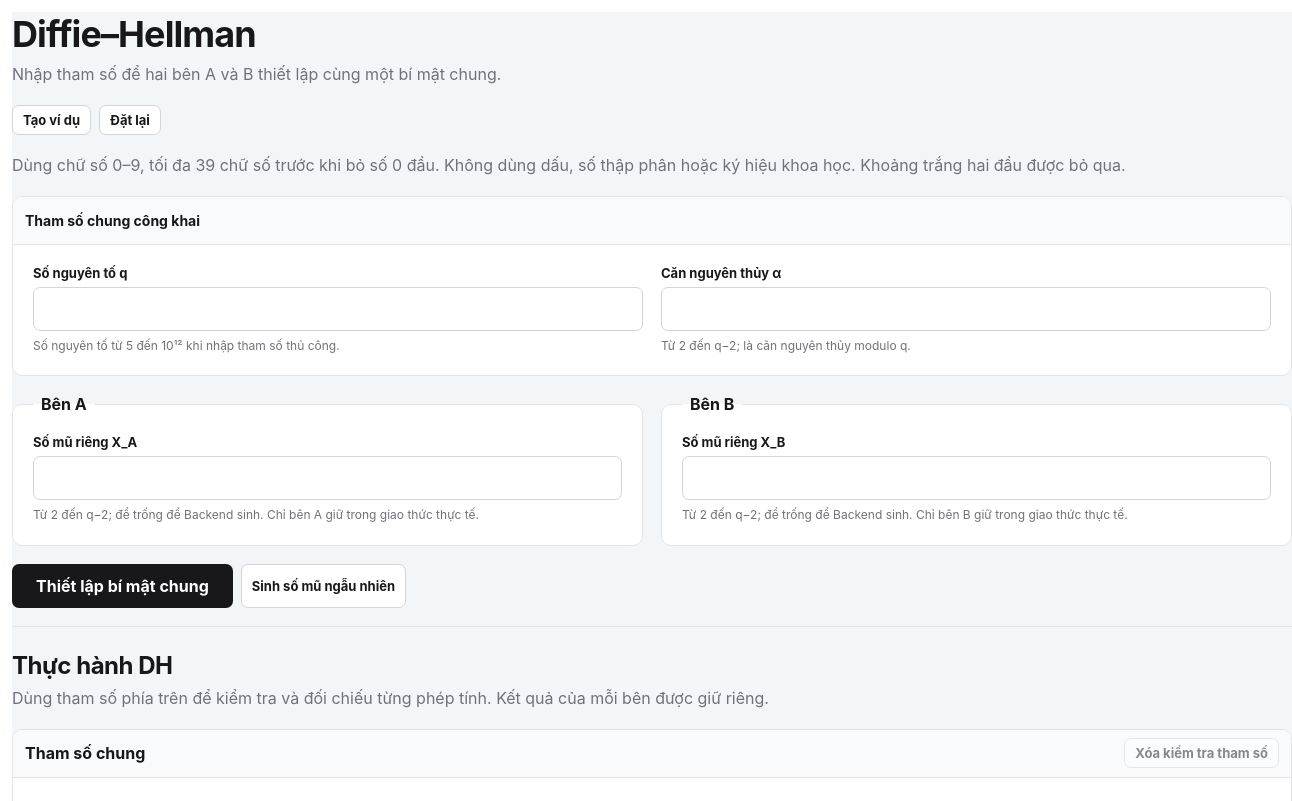
Diffie–Hellman form › starts with four empty labeled fields and loads examples only on click
Expected: the field labelled "Số nguyên tố q" is empty, x1=33 y1=287 x2=643 y2=331
Expected: the field labelled "Căn nguyên thủy α" is empty, x1=661 y1=287 x2=1271 y2=331
Step 1. Click the button "Tạo ví dụ" → (52, 120), box x1=12 y1=105 x2=91 y2=135
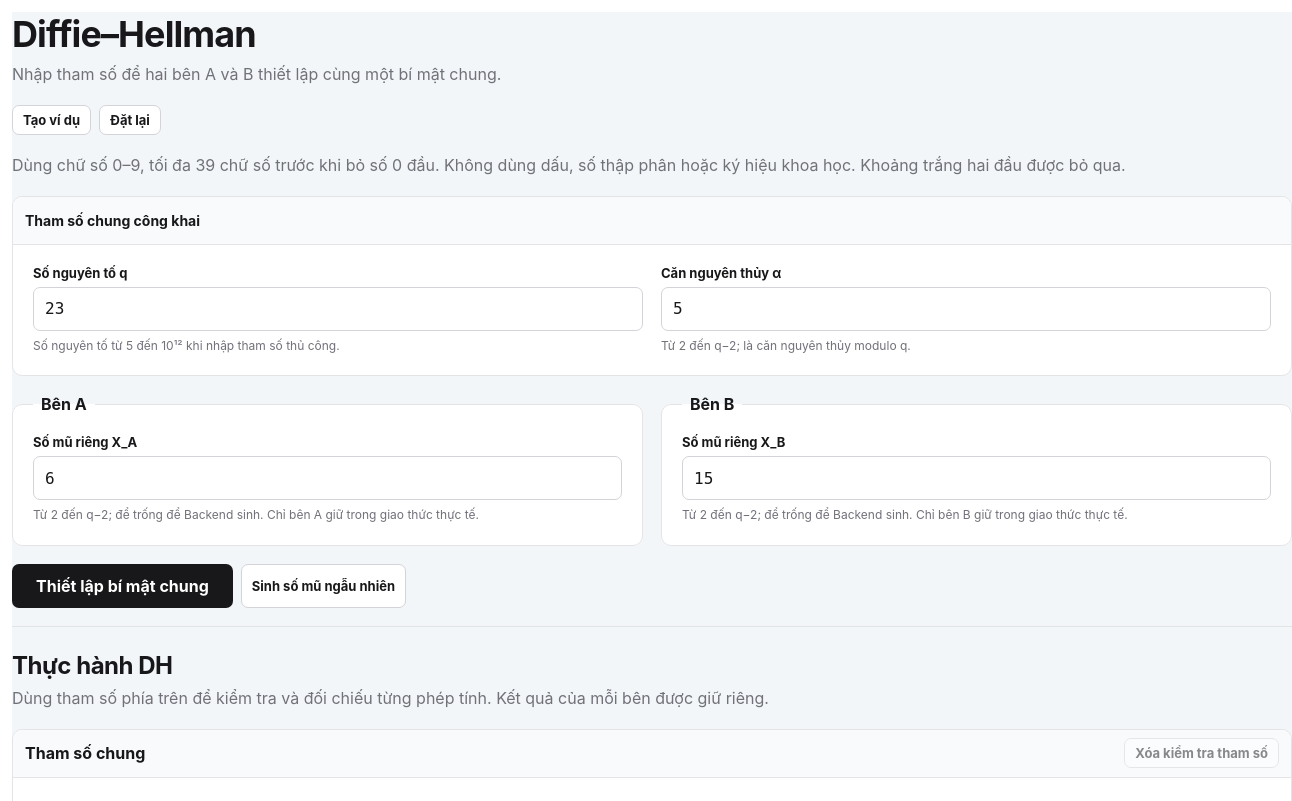
Expected: the field labelled "Số nguyên tố q" holds "23", x1=33 y1=287 x2=643 y2=331
Expected: the field labelled "Căn nguyên thủy α" holds "5", x1=661 y1=287 x2=1271 y2=331
Expected: the field labelled "Số mũ riêng X_A" holds "6", x1=33 y1=456 x2=622 y2=500
